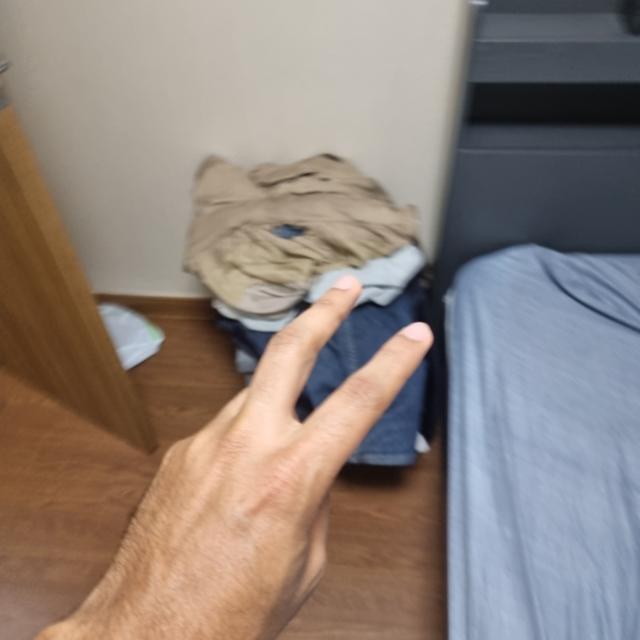Scissors: (96, 279, 443, 639)
